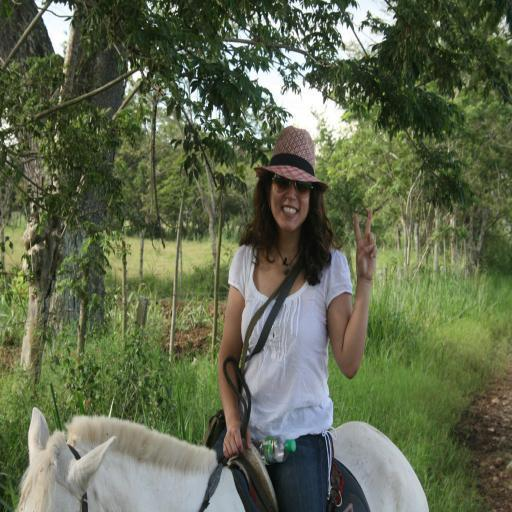horse: (18, 404, 428, 512)
